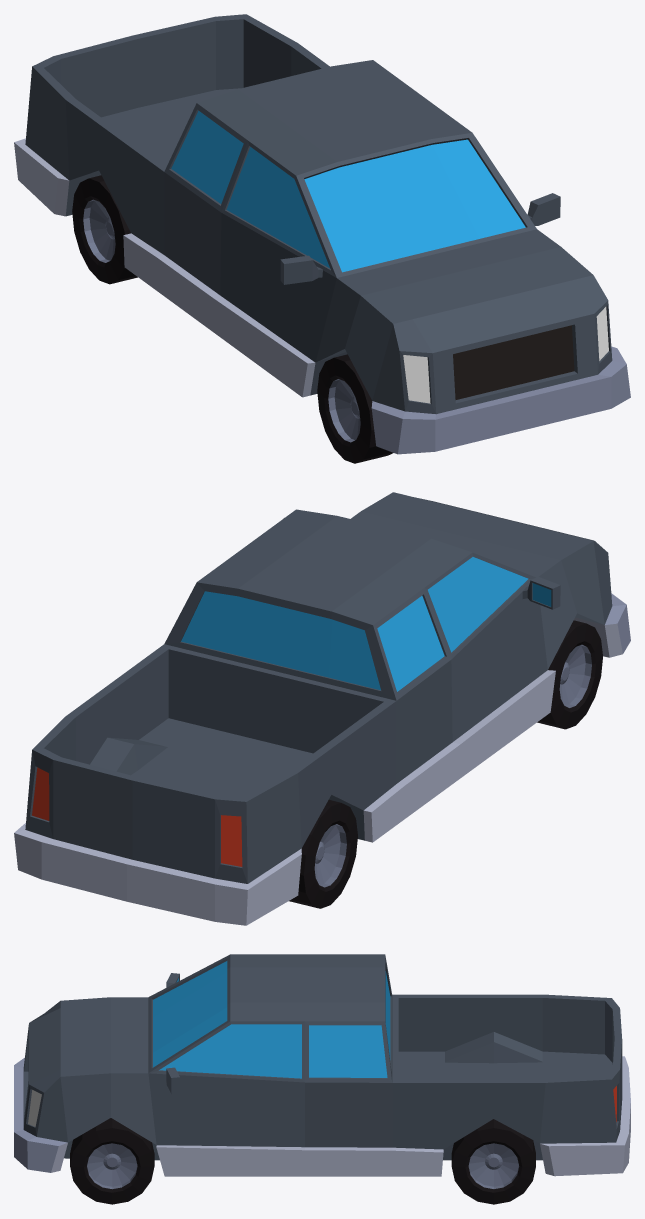
The model's file is Car001.fbx.
3 renders of one model, top to bottom at view 1: azimuth 30°, elevation 25°; view 2: azimuth 150°, elevation 25°; view 3: azimuth 270°, elevation 25°, orthographic. The views are drawn at different scales.
Parts seen in each view (by area): view 1: Lacquer, Body, Windows, FrontRightTire, BackTires; view 2: Lacquer, Body, Windows, BackTires, FrontRightTire; view 3: Lacquer, Body, Windows, FrontLeftTire, BackTires.
Boxes of the visible parts, <box> form: Lacquer: <box>25,14,612,414</box>; Body: <box>14,138,630,454</box>; Windows: <box>171,110,525,272</box>; FrontRightTire: <box>317,354,393,463</box>; BackTires: <box>72,175,137,284</box>; Lacquer: <box>25,492,612,883</box>; Body: <box>14,593,630,925</box>; Windows: <box>181,557,551,691</box>; BackTires: <box>289,800,357,908</box>; FrontRightTire: <box>537,620,602,729</box>; Lacquer: <box>23,954,622,1149</box>; Body: <box>14,1056,630,1176</box>; Windows: <box>153,961,390,1078</box>; FrontLeftTire: <box>70,1118,154,1204</box>; BackTires: <box>451,1119,535,1204</box>.
Size of the model in its own units: 342 by 266 by 848.
